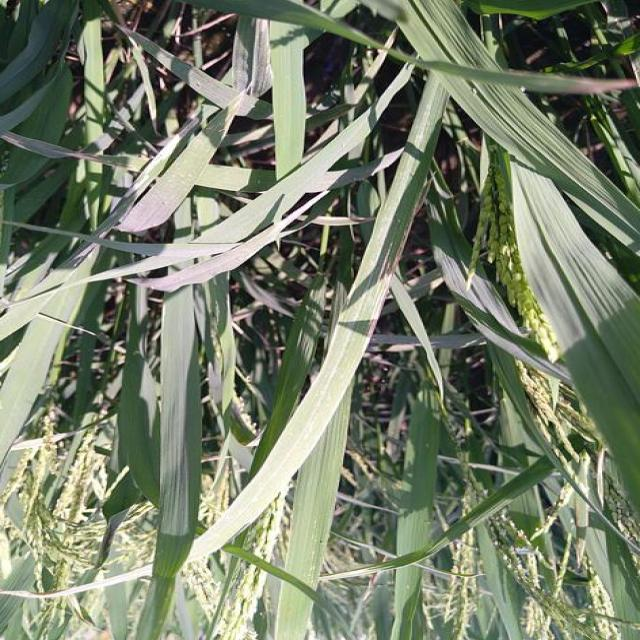Leaf Blight: (366, 206, 419, 346), (0, 130, 137, 171)
